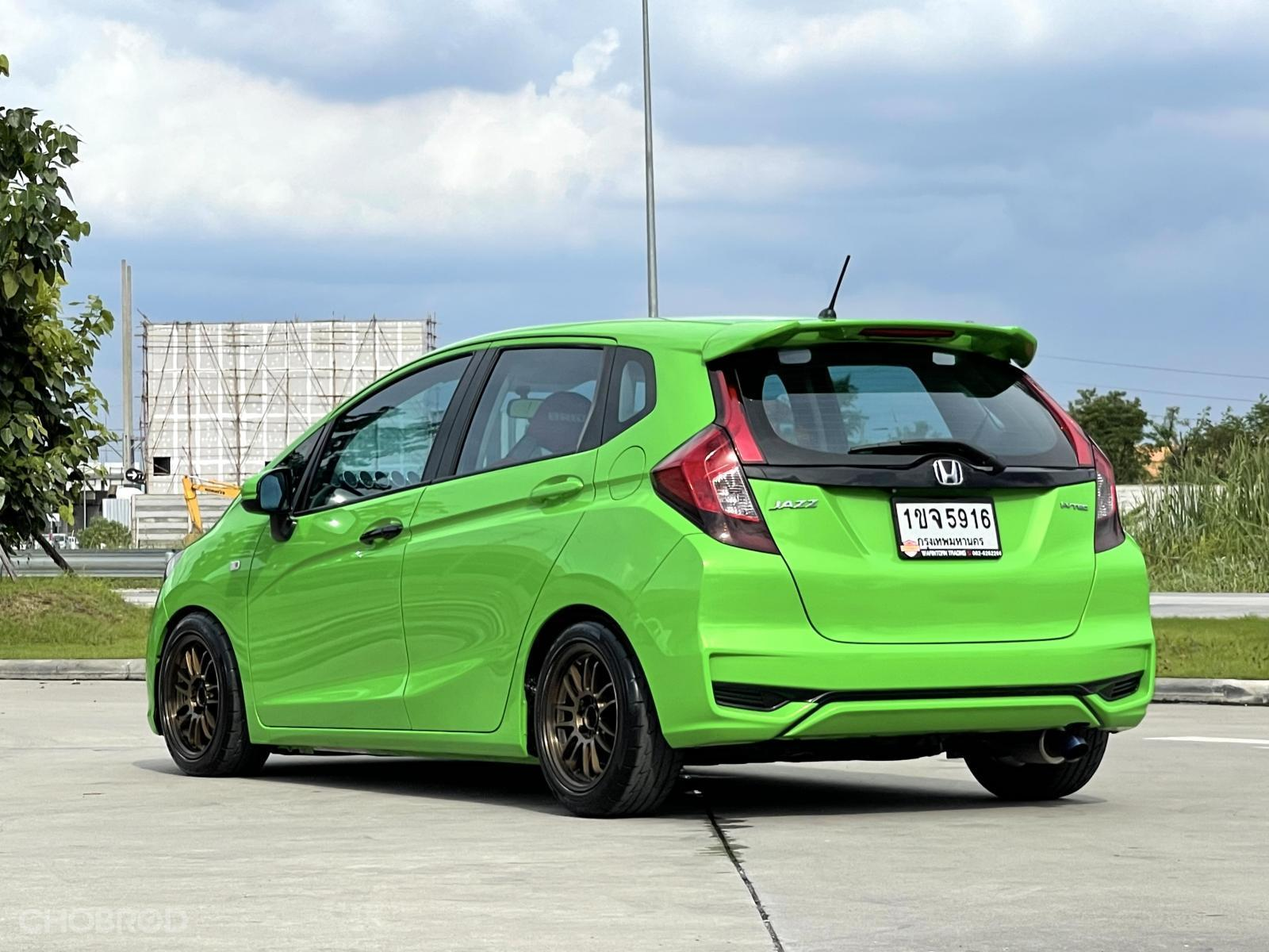license-plate: (886, 492, 1005, 563)
